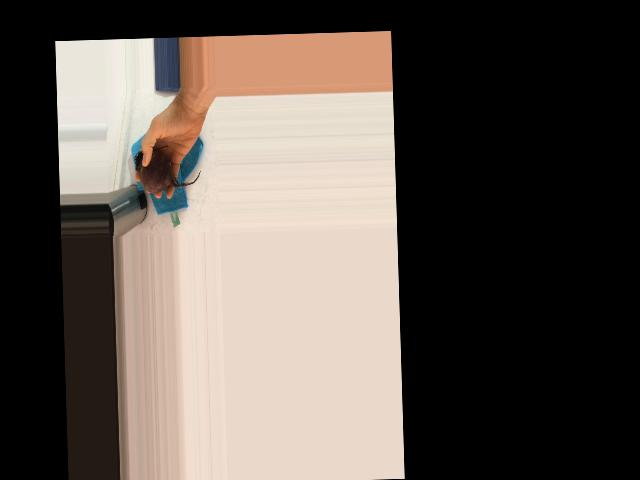beet: (134, 145, 201, 194)
